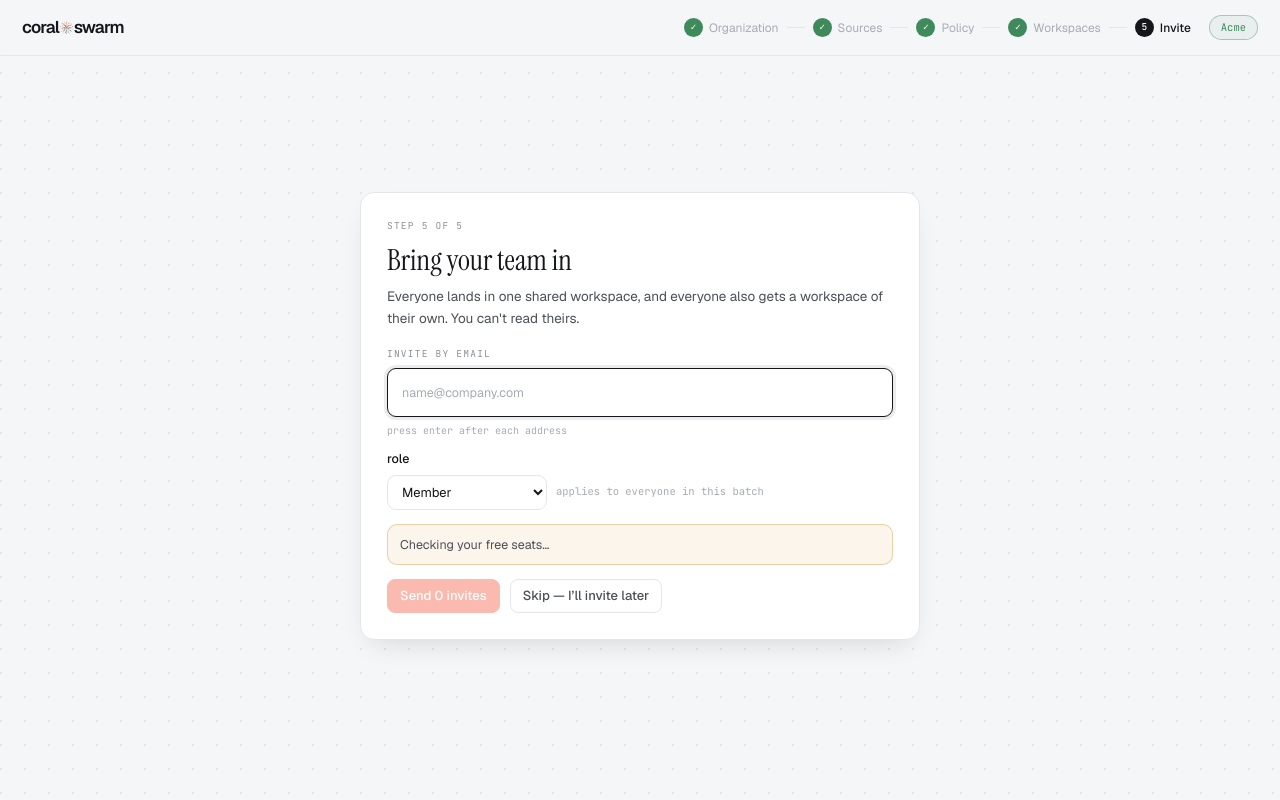
onboarding invite step › sends nothing when the seat quote is cancelled
Type "a@acme.com" into the field labelled "invite by email" at coordinates (640, 393), box [400,380,880,405]
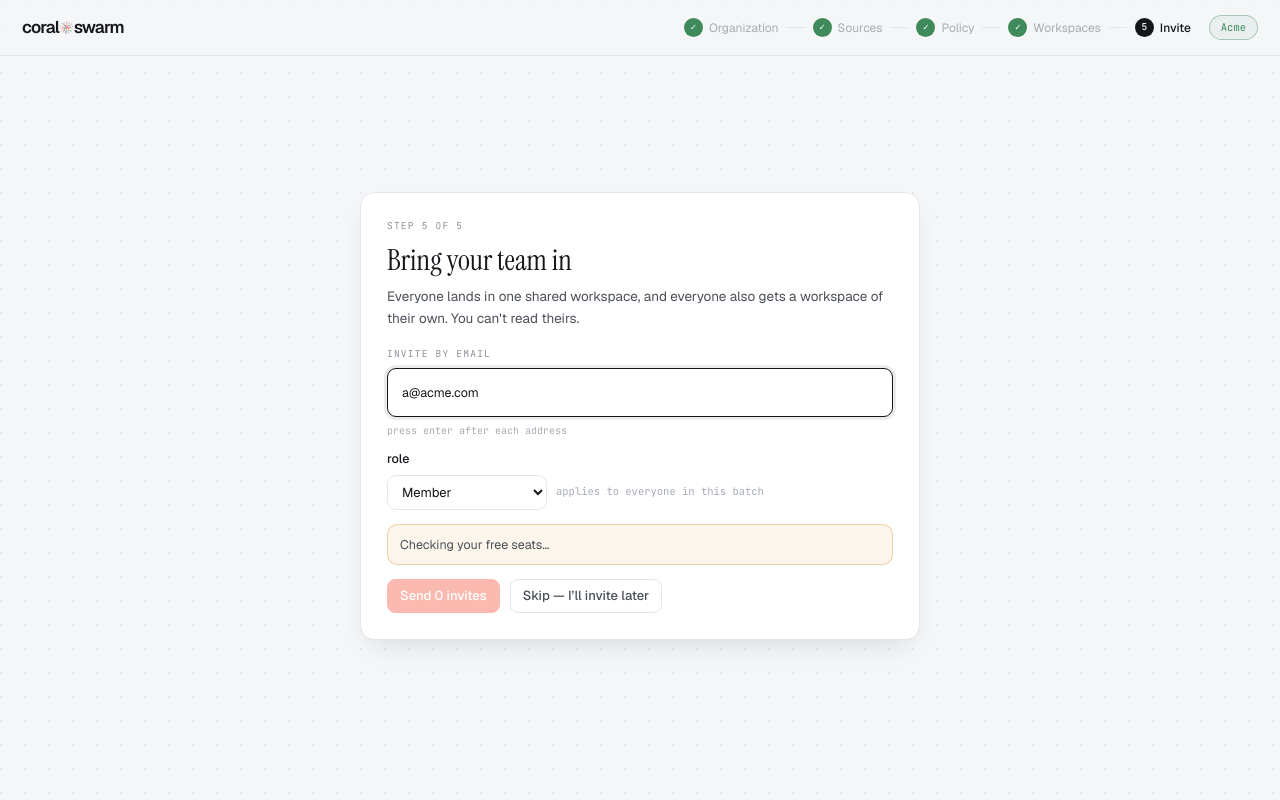
Press Enter in the field labelled "invite by email", box [400,380,880,405]
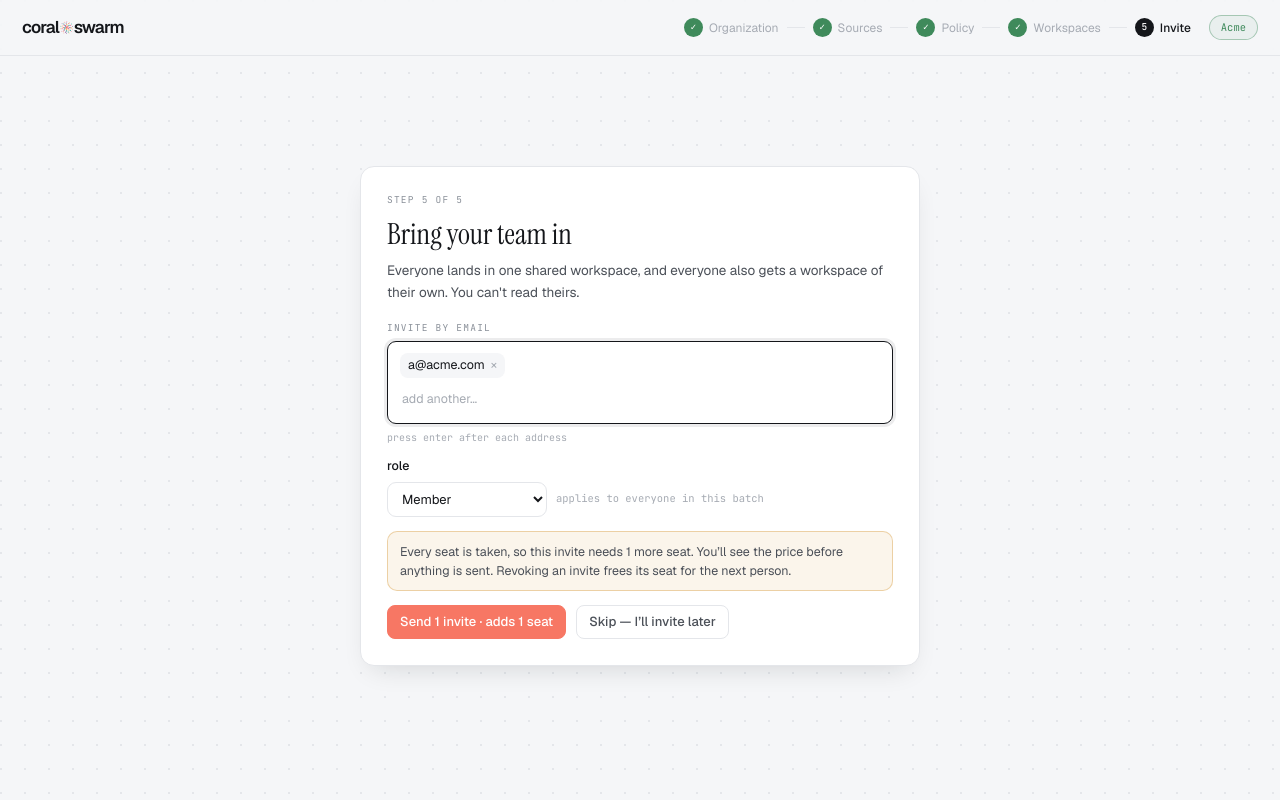
Click the button "Send 1 invite · adds 1 seat" at coordinates (477, 622), box [387,606,566,639]
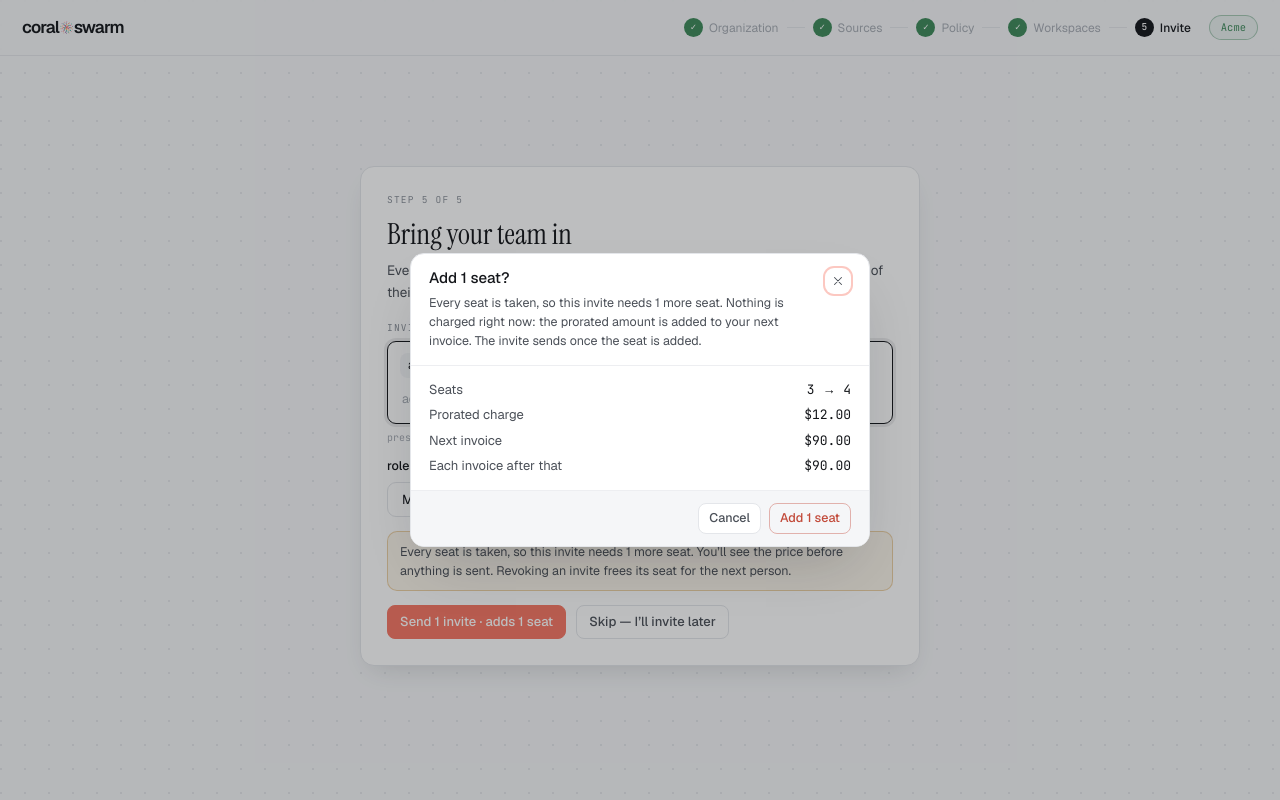
Click the button "Cancel" at coordinates (730, 518), box [698,503,761,534]
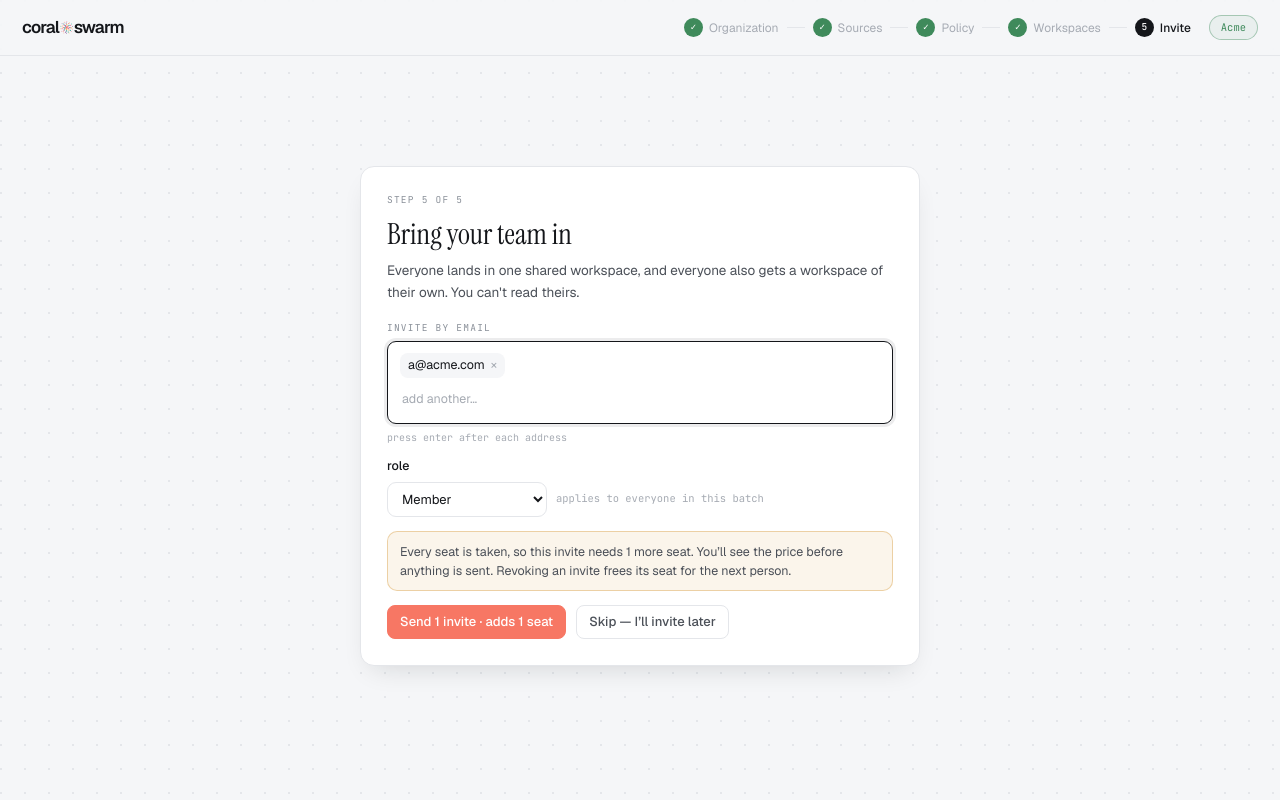
Check: the dialog is gone
